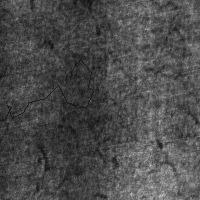crazing: (0, 59, 93, 132), (30, 121, 80, 198), (143, 25, 188, 82), (142, 135, 183, 194)
